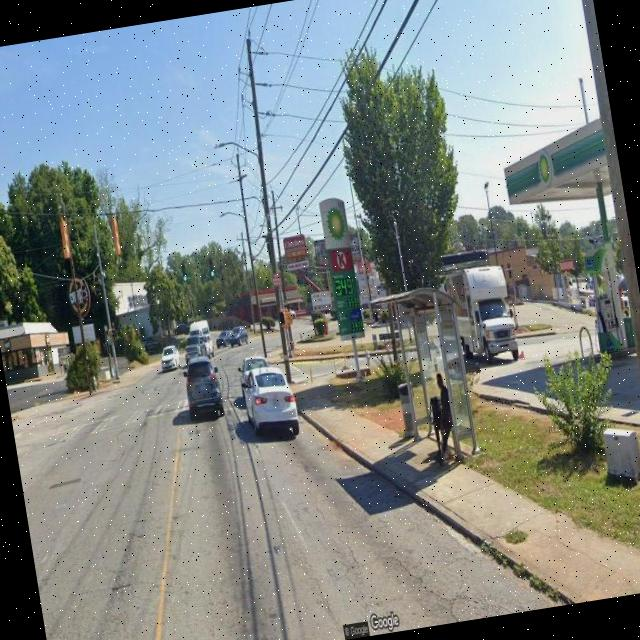seating: (428, 401, 456, 444)
shelter: (382, 283, 482, 472)
trash_can: (397, 380, 418, 440)
